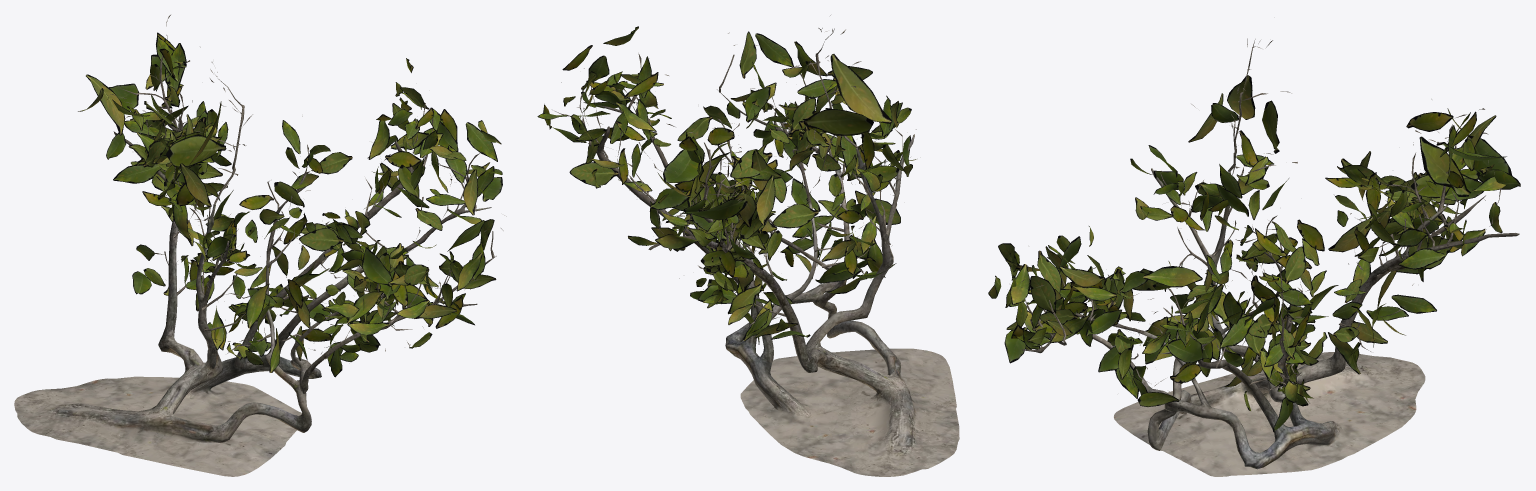
3 renders of one model, left to right at view 1: azimuth 30°, elevation 25°; view 2: azimuth 150°, elevation 25°; view 3: azimuth 270°, elevation 25°, orthographic. The views are drawn at different scales.
Visible parts, largest first — view 1: island_tree_03_LOD0; view 2: island_tree_03_LOD0; view 3: island_tree_03_LOD0.
Boxes of the visible parts, left/top/right/bottom form: island_tree_03_LOD0: left=14, top=15, right=506, bottom=476; island_tree_03_LOD0: left=537, top=15, right=959, bottom=476; island_tree_03_LOD0: left=988, top=38, right=1520, bottom=476.
Bounding box in the file's own units: 2.91 × 2.5 × 2.89.
3 materials, 3 textured.
